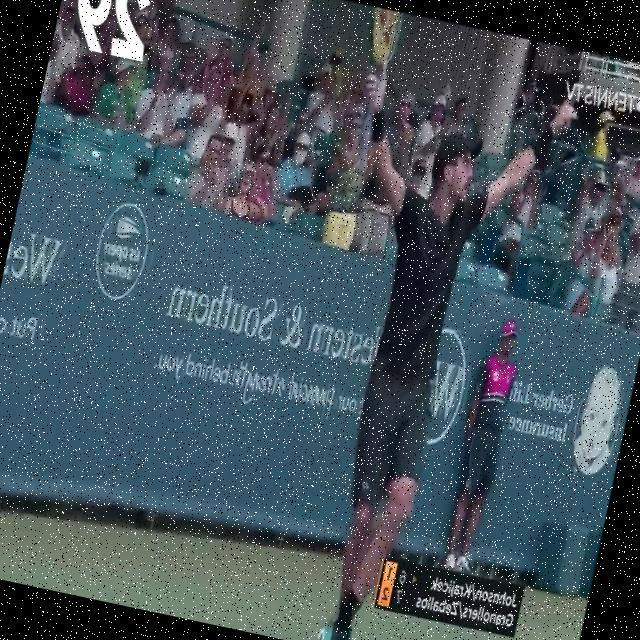player: (240, 4, 591, 640)
